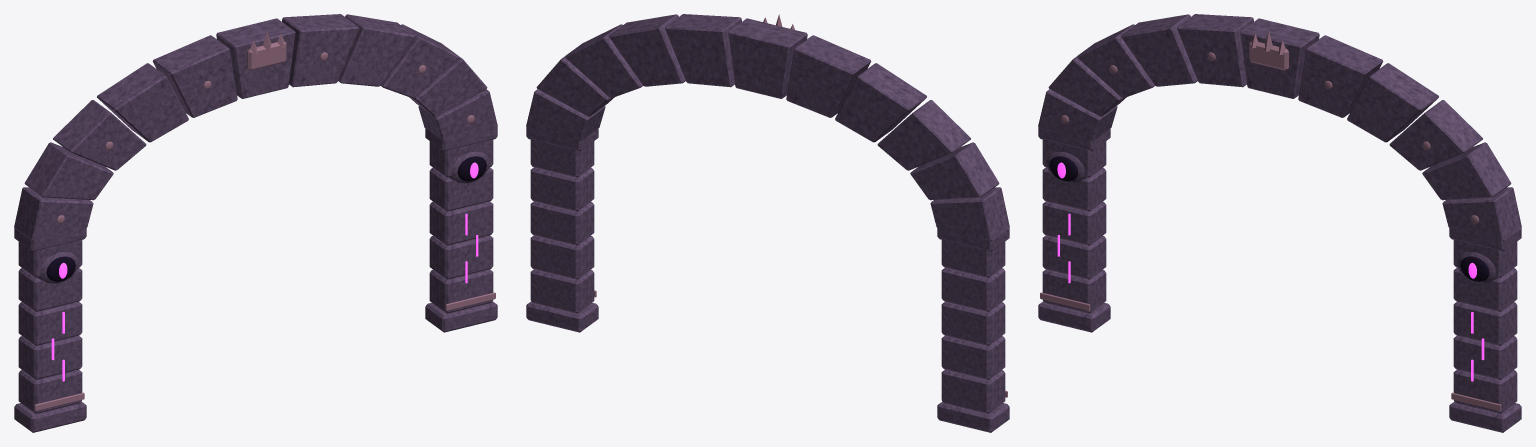
File: corrupt-portal.glb
The picture shows the model from 3 angles, left to right: view 1: azimuth 30°, elevation 25°; view 2: azimuth 150°, elevation 25°; view 3: azimuth 330°, elevation 25°; orthographic projection.
Visible parts, largest first — view 1: Arch spring capital, Bronze arch rivet, Recessed frog eye, Segmented violet pillar vein; view 2: Arch spring capital; view 3: Arch spring capital, Bronze arch rivet, Recessed frog eye, Segmented violet pillar vein.
Boxes of the visible parts, x1,y1,x2,y2 form: Arch spring capital: (14,14,497,432); Bronze arch rivet: (34,30,495,411); Recessed frog eye: (46,156,486,281); Segmented violet pillar vein: (51,162,478,381); Arch spring capital: (526,14,1009,432); Arch spring capital: (1038,14,1521,432); Bronze arch rivet: (1040,30,1501,411); Recessed frog eye: (1049,156,1489,281); Segmented violet pillar vein: (1057,162,1484,381).
Size of the model in its own units: 9.2 by 6.56 by 0.81.
Materials: 4 (1 with a texture image).
